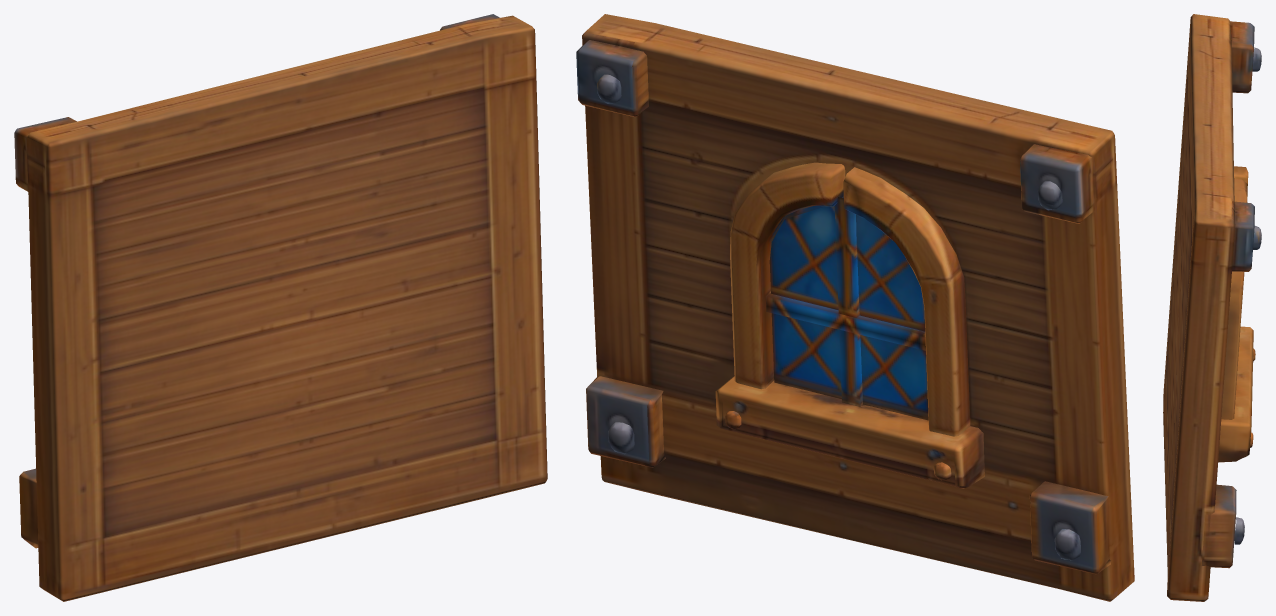
The model's file is cabin_window_wall.glb.
The picture shows the model from 3 angles, left to right: view 1: azimuth 30°, elevation 25°; view 2: azimuth 150°, elevation 25°; view 3: azimuth 270°, elevation 25°; orthographic projection. The views are drawn at different scales.
Parts seen in each view (by area): view 1: wall; view 2: wall; view 3: wall.
Part boxes in pixels (left/top/right/bottom): wall: left=14, top=14, right=547, bottom=601; wall: left=576, top=14, right=1134, bottom=601; wall: left=1163, top=14, right=1261, bottom=601.
Bounding box in the file's own units: 2.79 × 2.42 × 0.5602.
1 material, 1 textured.
